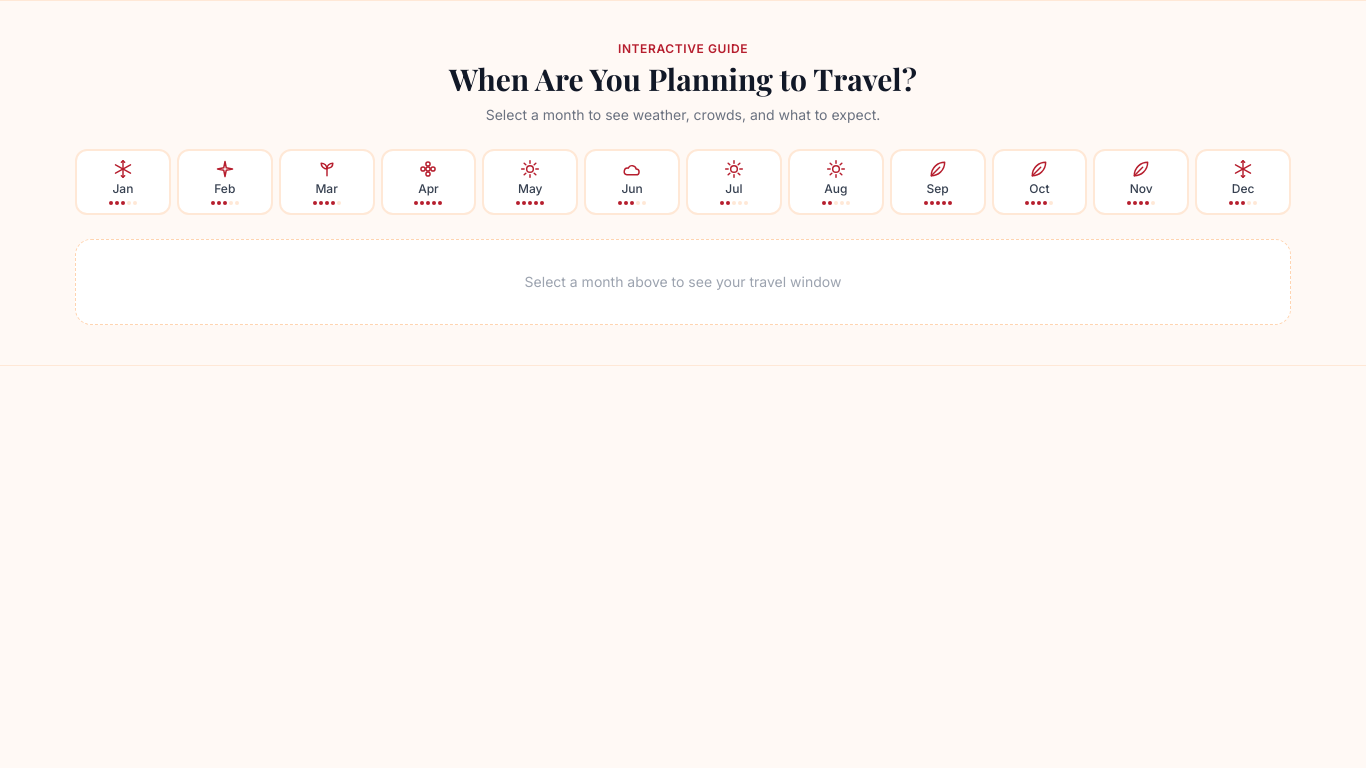
Test: MonthPickerWidget › switches to different month when another is clicked
Click the button "Jan" at (123, 182), box [75,149,171,215]
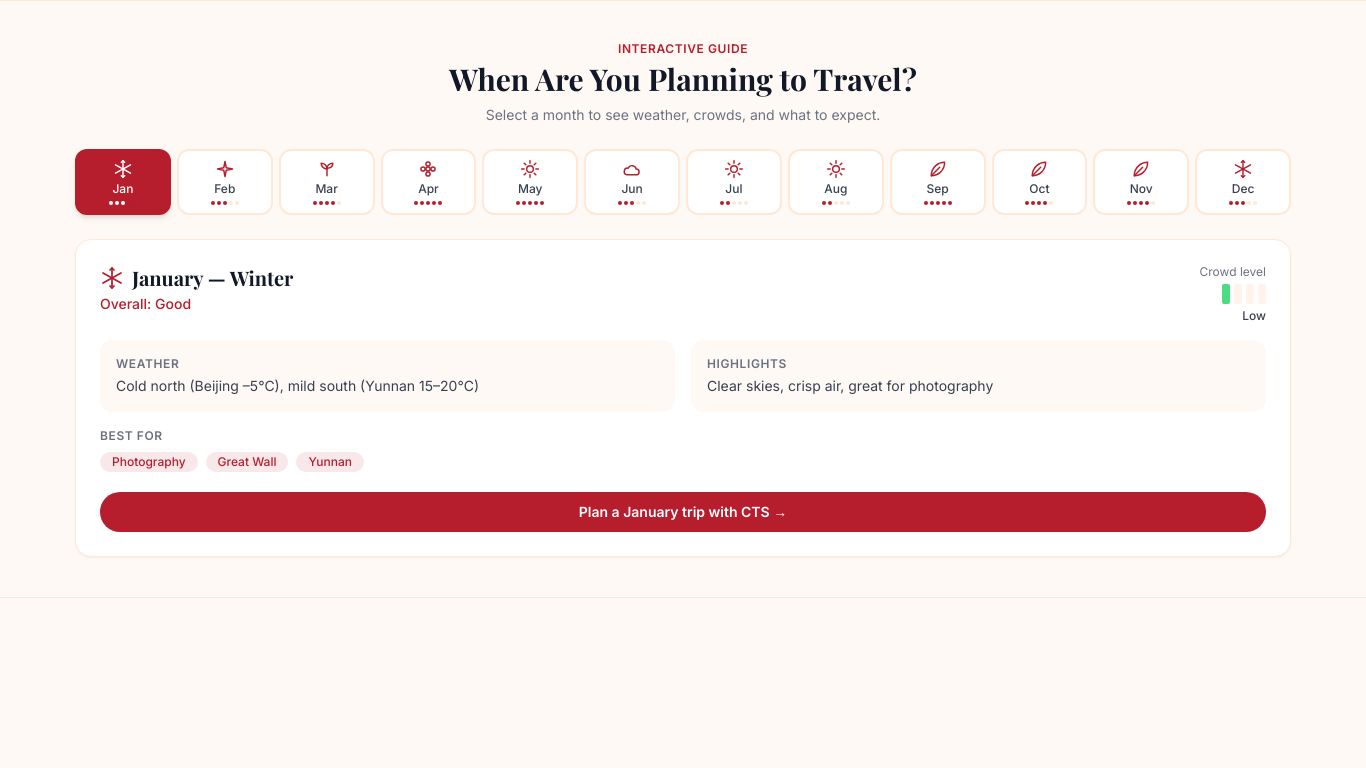
Expected: the heading "January — Winter" is shown, [100,264,293,292]
Click the button "Oct" at (1039, 182), box [992,149,1087,215]
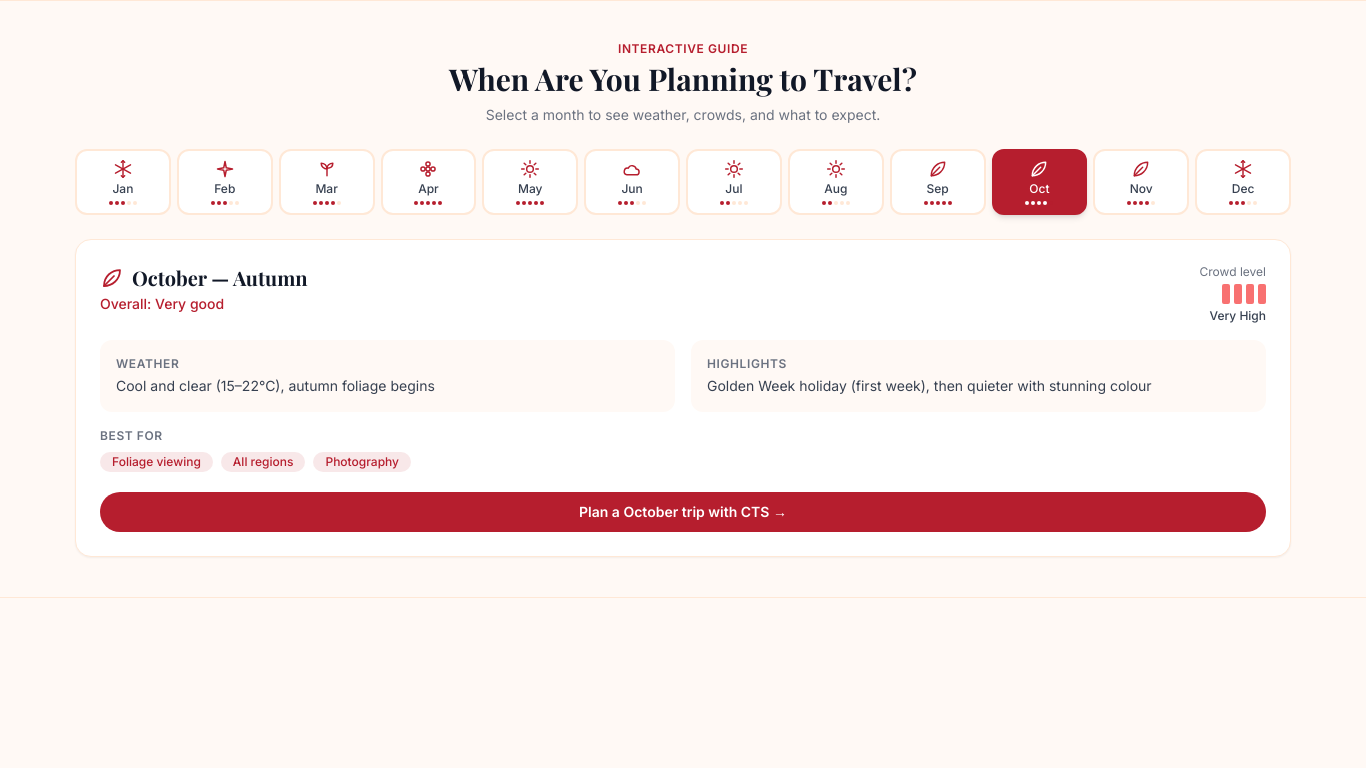
Expected: the heading "October — Autumn" is shown, [100,264,308,292]
Expected: the heading "January — Winter" is gone
